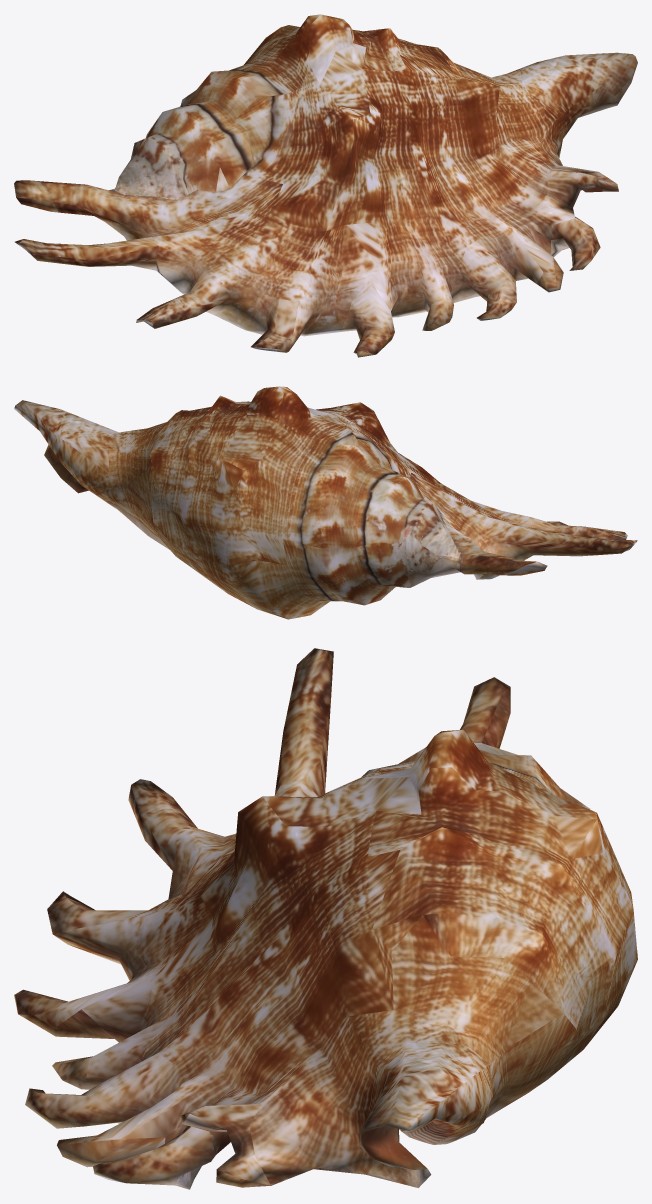
Rendered from lambis_shell.fbx.
3 renders of one model, top to bottom at view 1: azimuth 30°, elevation 25°; view 2: azimuth 150°, elevation 25°; view 3: azimuth 270°, elevation 25°, orthographic. The views are drawn at different scales.
Parts seen in each view (by area): view 1: lambis_shell; view 2: lambis_shell; view 3: lambis_shell.
Part boxes in pixels (<box>): lambis_shell: <box>14,14,637,357</box>; lambis_shell: <box>14,386,637,619</box>; lambis_shell: <box>14,648,637,1189</box>.
Bounding box in the file's own units: 0.1395 × 0.047 × 0.0744.
Materials: 1 (1 with a texture image).
